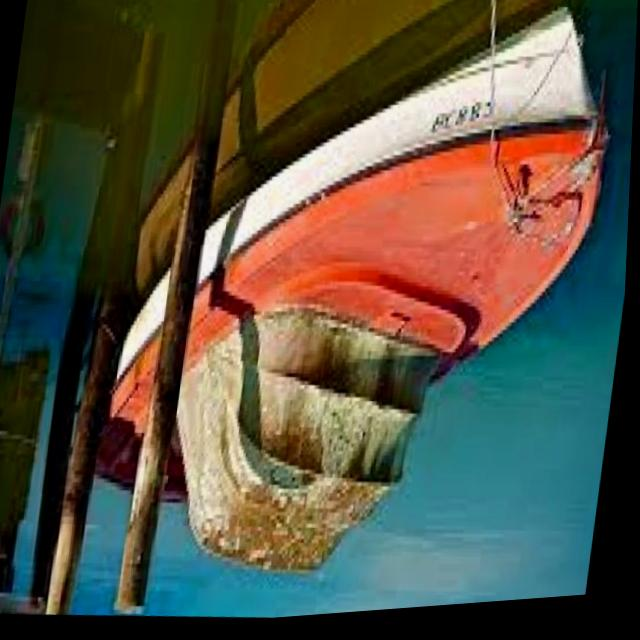ship2: (91, 15, 611, 577)
